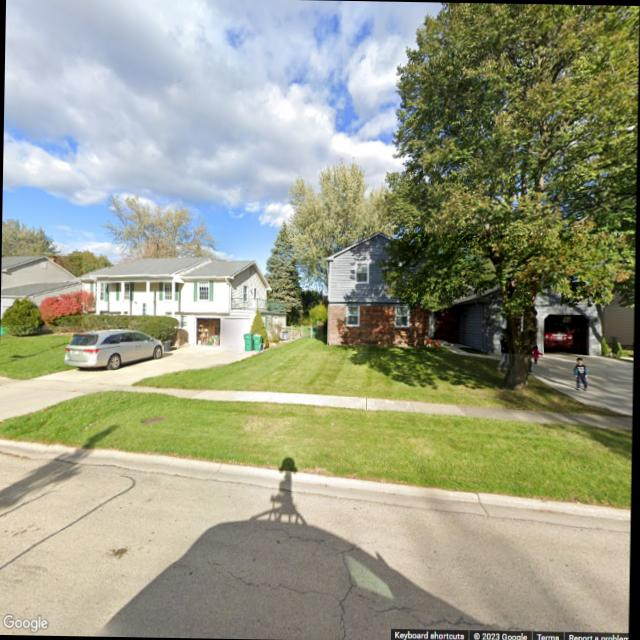House: (322, 231, 606, 355), (74, 254, 288, 348), (0, 254, 82, 326)
